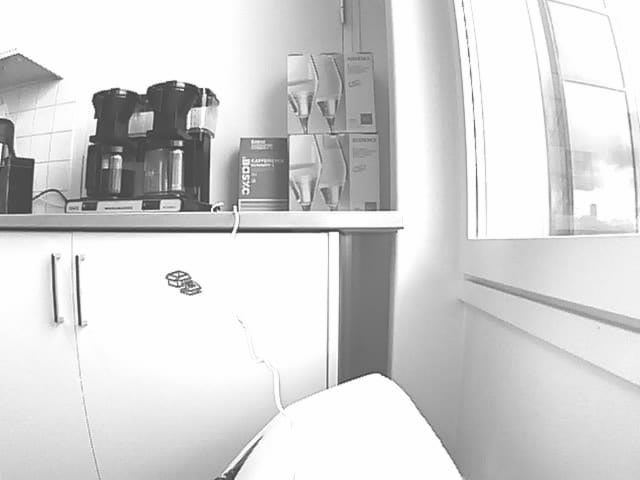not empty coffee: (81, 141, 138, 199)
